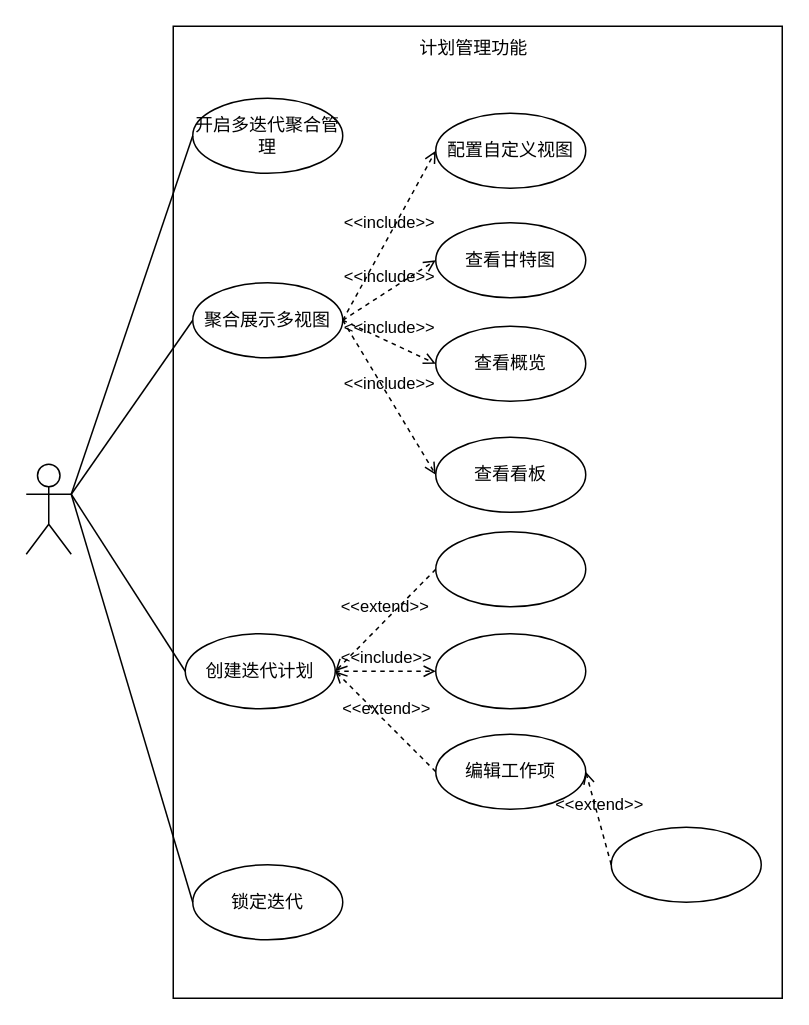
This 809x1025 diagram has some shape labels left out. The centre of each missing label's shape, as x and y in pixels:
"关联工作项" belongs at pixel 510 670.
"创建工作项" belongs at pixel 510 568.
"排期工作项" belongs at pixel 685 864.
"用户" belongs at pixel 48 508.
